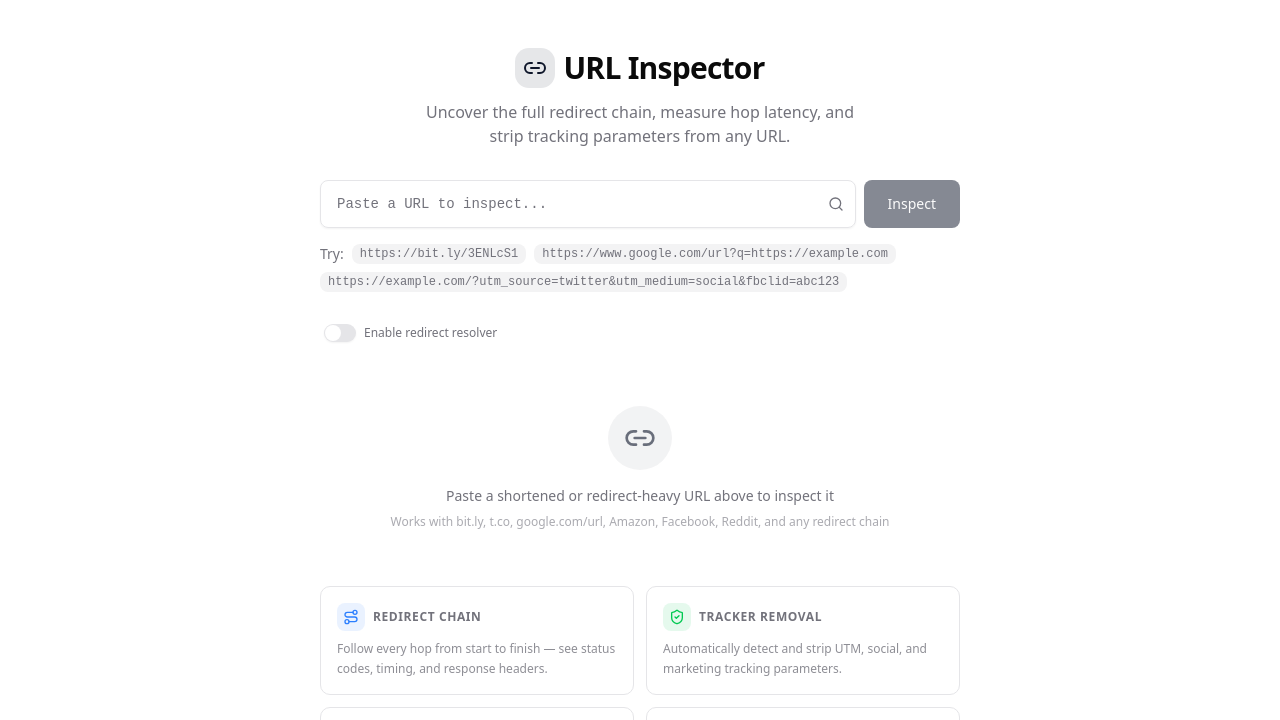
App › shows error message on failure
Type "https://example.com" into the field with placeholder "Paste a URL to inspect..." at (588, 204), box [320,180,856,228]
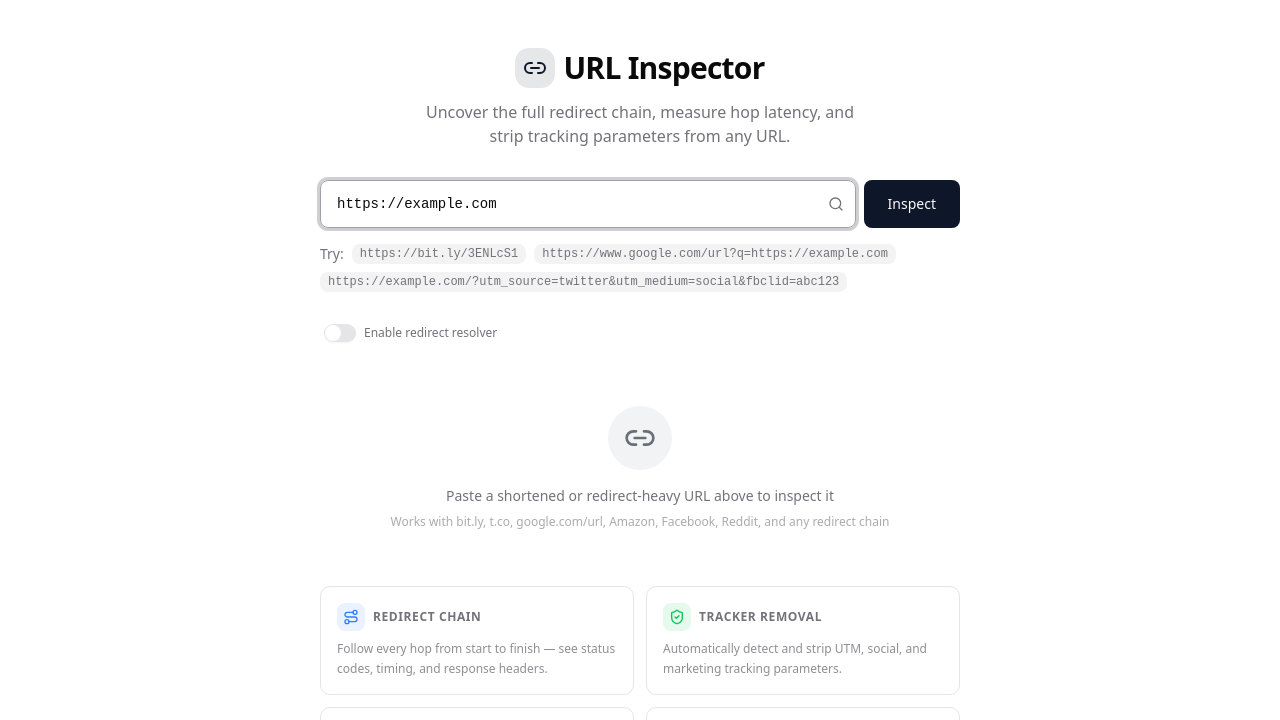
Click the button "Inspect" at (912, 204), box [864,180,960,228]
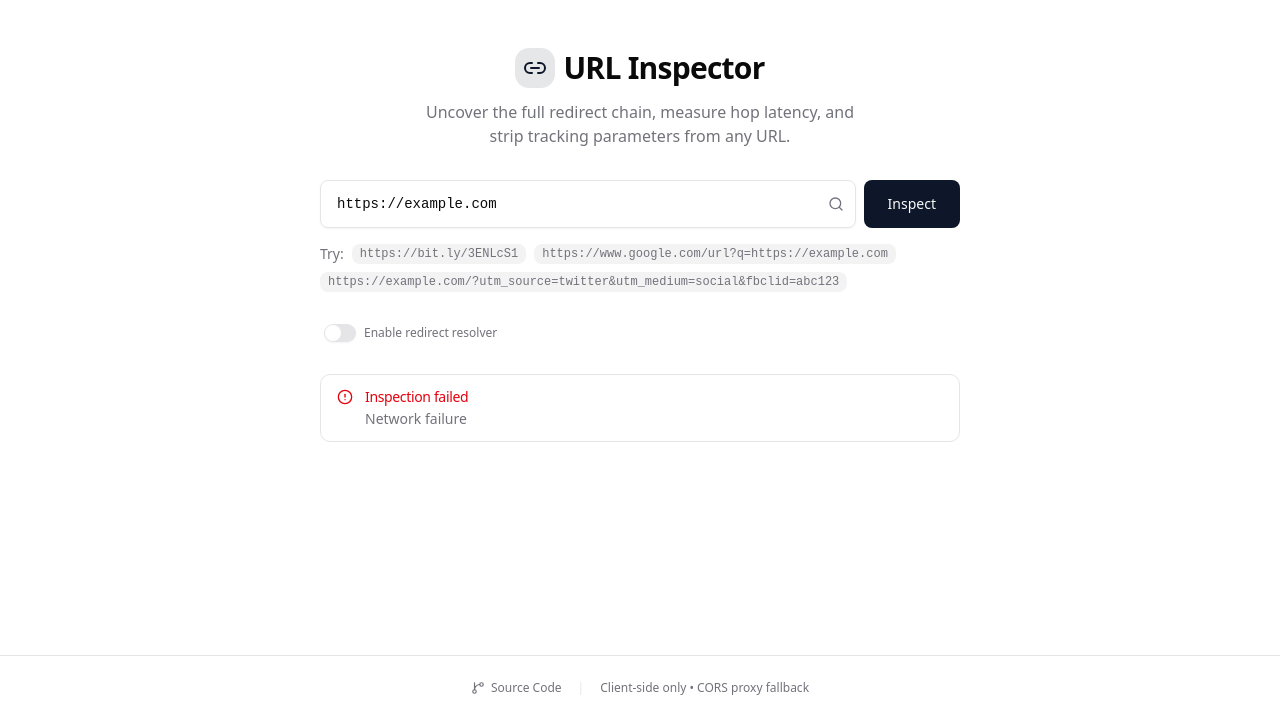
Check: the text "Network failure" is shown, box [365,409,467,428]
Check: the heading "Inspection failed" is shown, box [365,387,468,406]
